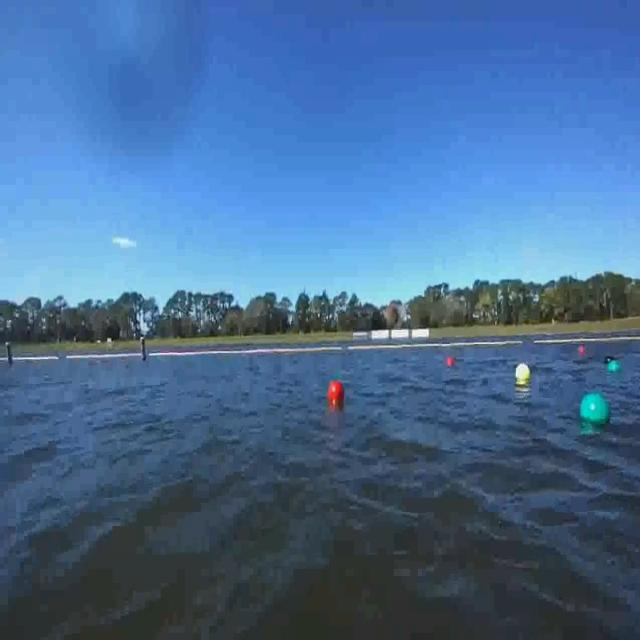green-buoy: (580, 394, 613, 426), (607, 360, 620, 374)
red-buoy: (330, 382, 346, 405), (576, 343, 585, 358), (448, 357, 457, 367)
yellow-buoy: (514, 362, 529, 380)
